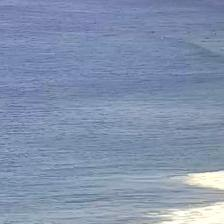surfer: (204, 36, 210, 40), (201, 40, 206, 43), (151, 31, 155, 34), (214, 32, 217, 36), (217, 40, 220, 43)
